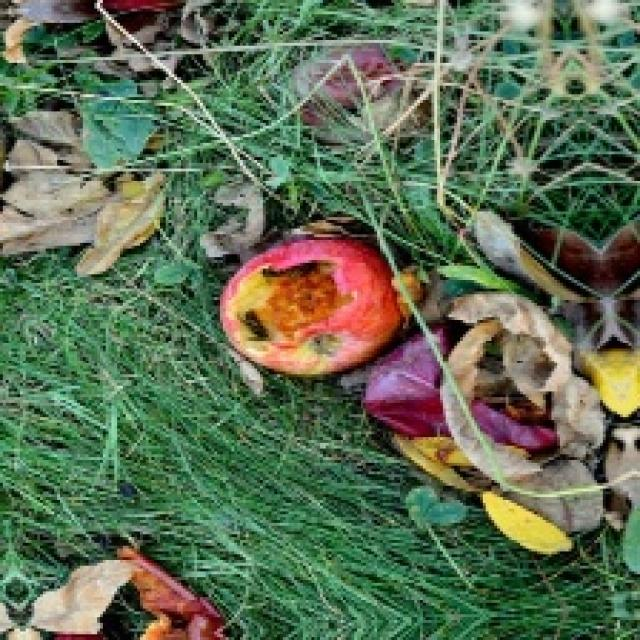rotten_apple: (224, 240, 402, 370)
